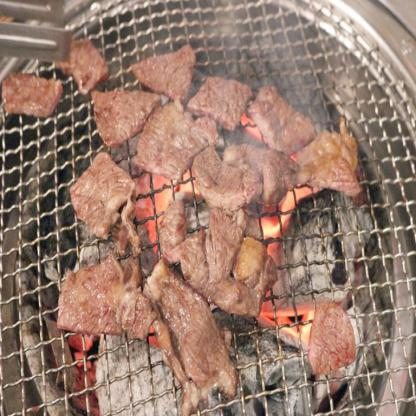Carne: (248, 84, 372, 200), (145, 256, 229, 402), (170, 206, 274, 321), (190, 137, 300, 218), (72, 148, 140, 261), (132, 95, 206, 191), (55, 266, 151, 340), (131, 36, 203, 108), (181, 70, 254, 136), (91, 82, 154, 147), (0, 68, 60, 113)
